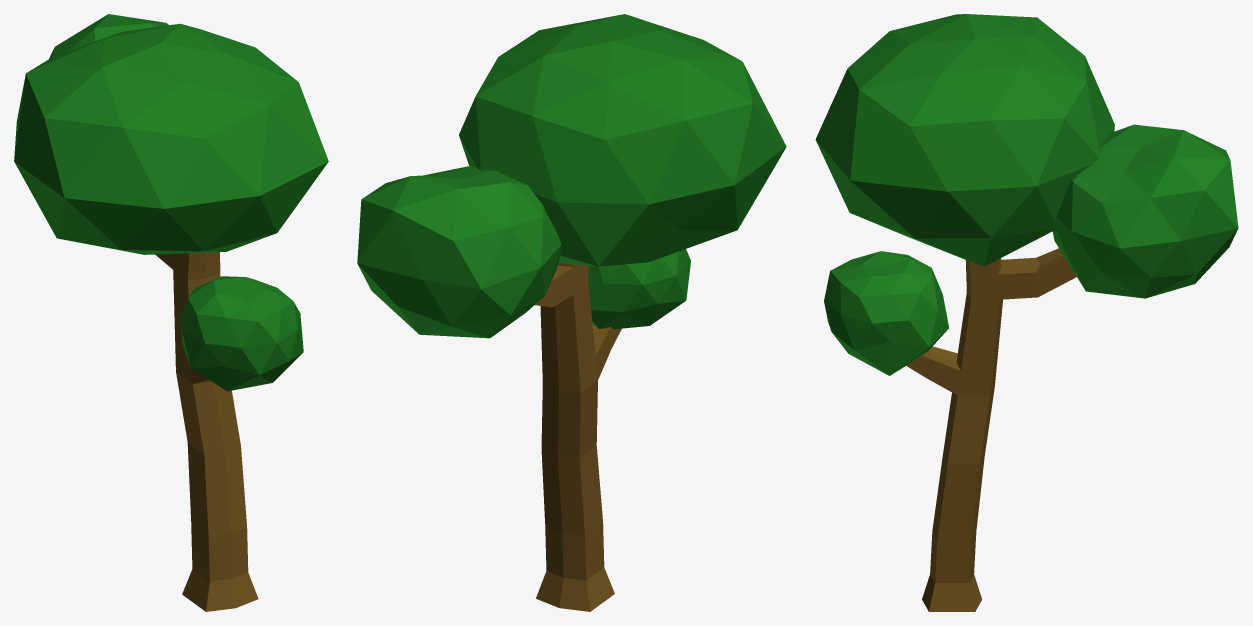
The model's file is forest_tree_1.fbx.
The picture shows the model from 3 angles, left to right: view 1: azimuth 30°, elevation 25°; view 2: azimuth 150°, elevation 25°; view 3: azimuth 270°, elevation 25°; orthographic projection. The views are drawn at different scales.
Parts seen in each view (by area): view 1: Icosphere.043; view 2: Icosphere.043; view 3: Icosphere.043.
Boxes of the visible parts, x1,y1,x2,y2 form: Icosphere.043: (14, 14, 328, 611); Icosphere.043: (357, 14, 786, 611); Icosphere.043: (815, 14, 1238, 611).
Bounding box in the file's own units: 1237 × 2304 × 1641.
